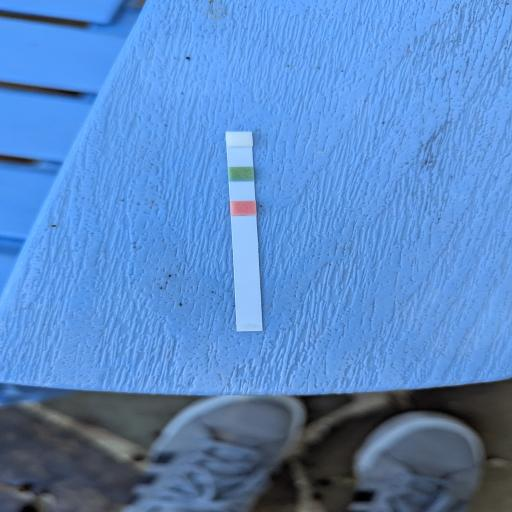strip: (226, 131, 263, 332)
